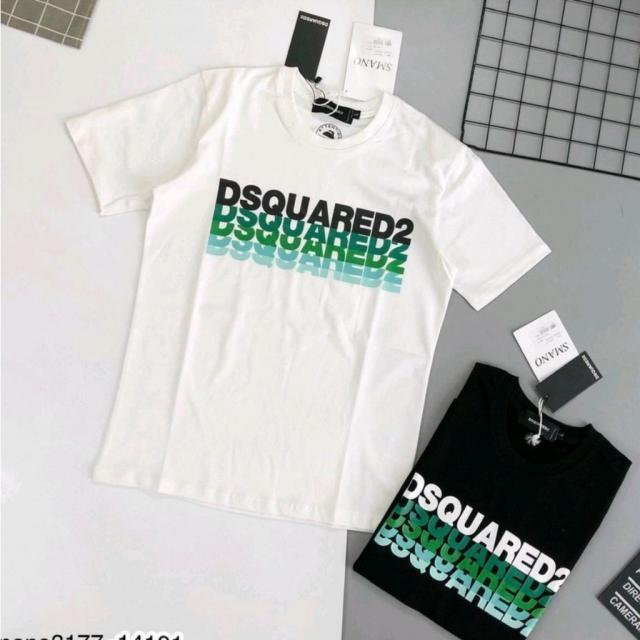Shirt: (57, 61, 557, 536), (352, 362, 636, 640)
